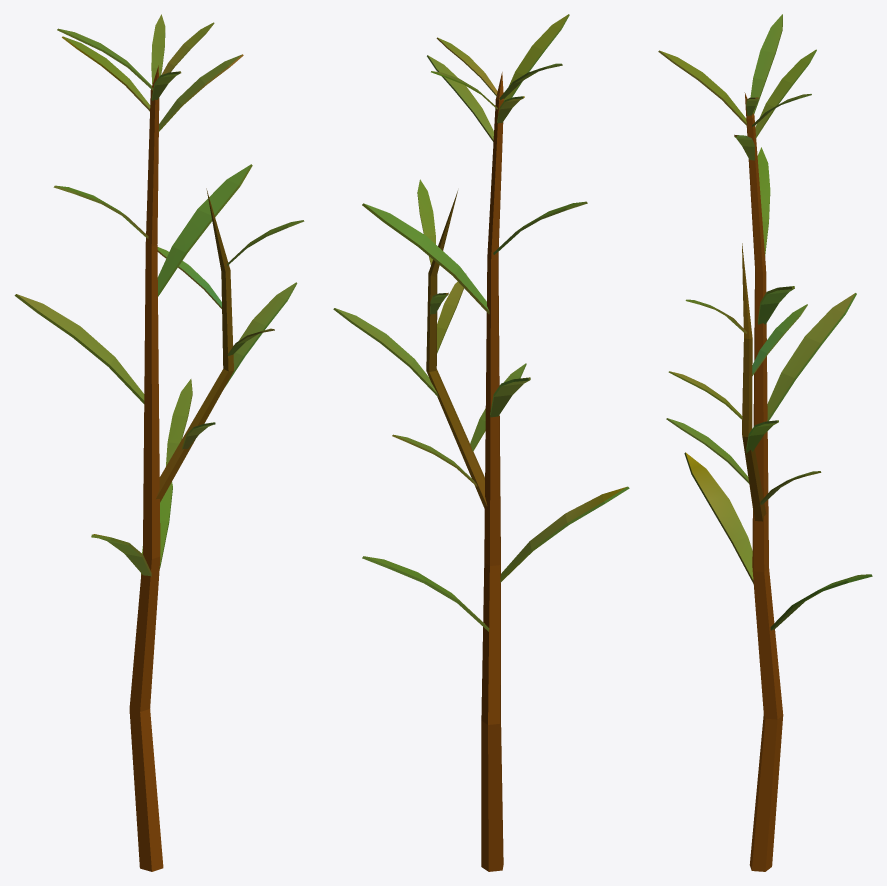
The model's file is mega-pack-cylinder-043.glb.
The picture shows the model from 3 angles, left to right: view 1: azimuth 30°, elevation 25°; view 2: azimuth 150°, elevation 25°; view 3: azimuth 270°, elevation 25°; orthographic projection. The views are drawn at different scales.
Visible parts, largest first — view 1: Cylinder.043; view 2: Cylinder.043; view 3: Cylinder.043.
Part boxes in pixels (x1,y1,x2,y2): Cylinder.043: (14,14,304,871); Cylinder.043: (333,14,629,871); Cylinder.043: (658,14,872,871).
Bounding box in the file's own units: 0.3947 × 1.26 × 0.3001.
1 material, 1 textured.
